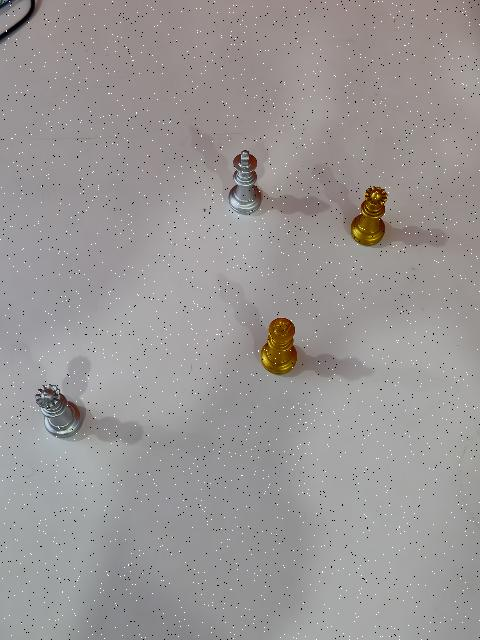black_king: (260, 317, 299, 376)
black_queen: (351, 186, 389, 247)
white_king: (228, 150, 262, 216)
white_queen: (34, 385, 84, 440)
